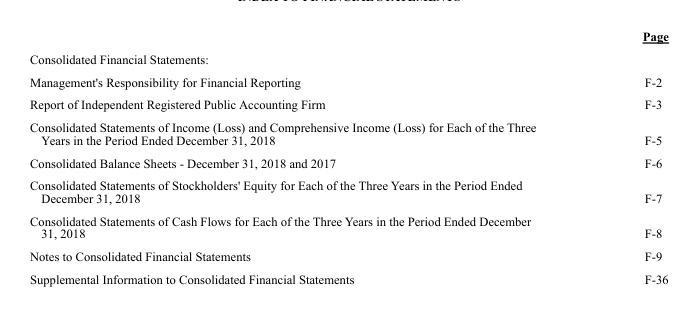table: (28, 28, 667, 285)
table column: (28, 28, 588, 285), (588, 28, 667, 285)
table column header: (28, 28, 667, 47)
table projected row header: (28, 47, 667, 70)
table row: (28, 173, 667, 209), (28, 115, 667, 150), (28, 209, 667, 244), (28, 47, 667, 70), (28, 92, 667, 115), (28, 150, 667, 173), (28, 244, 667, 267), (28, 70, 667, 92), (28, 28, 667, 47), (28, 267, 667, 285)
